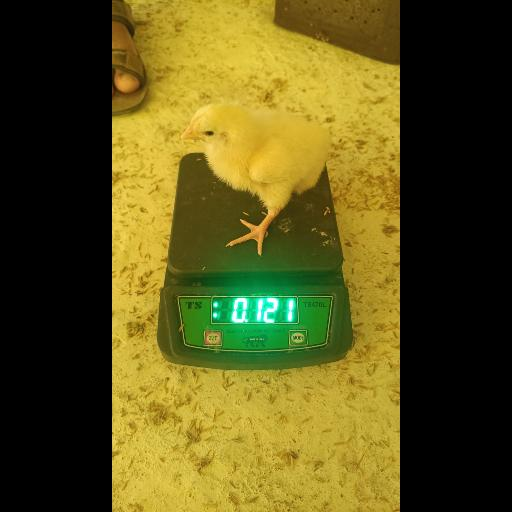chick: (181, 100, 332, 256)
